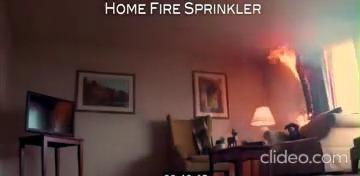fire: (265, 35, 300, 83), (290, 110, 314, 127)
